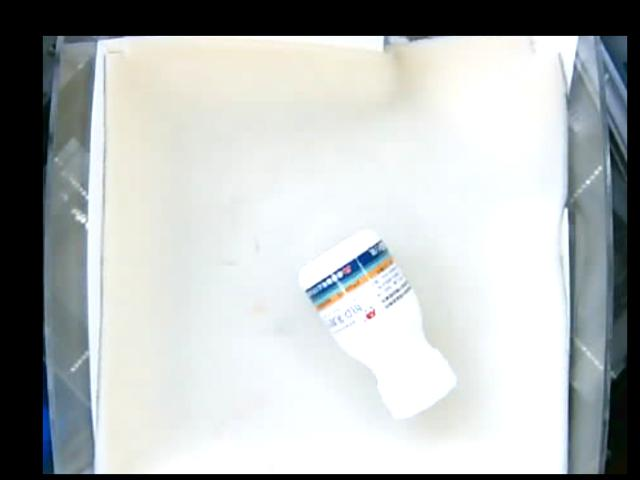Bottle: (297, 229, 451, 423)
